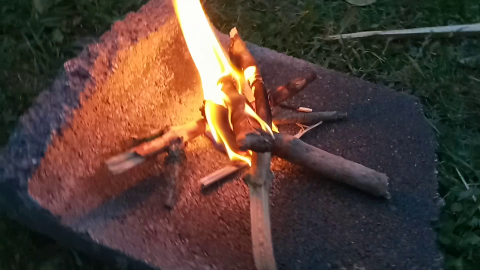fire: (176, 4, 278, 145)
